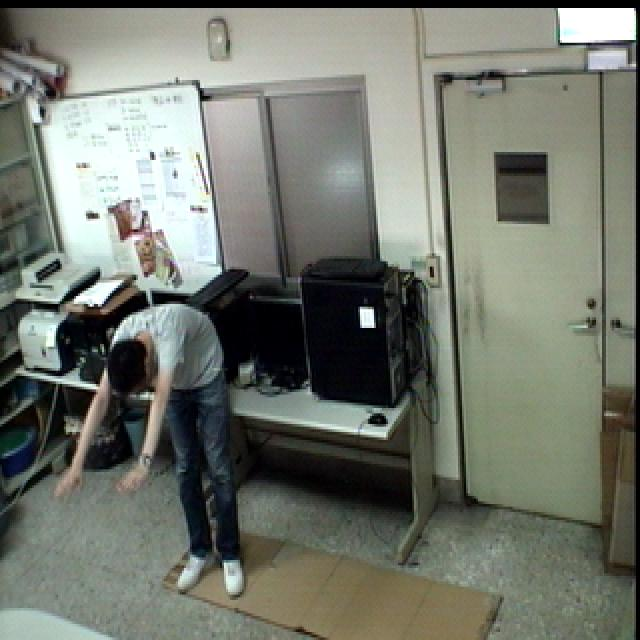bend: (51, 294, 252, 605)
